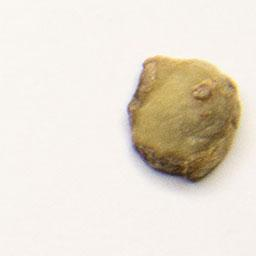defect: (122, 51, 244, 185)
